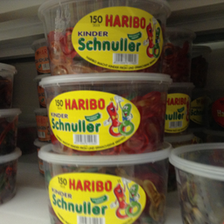candy: (35, 74, 185, 155), (29, 145, 175, 224), (38, 1, 175, 74)
